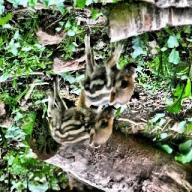boar: (45, 75, 117, 149), (81, 30, 137, 108)
